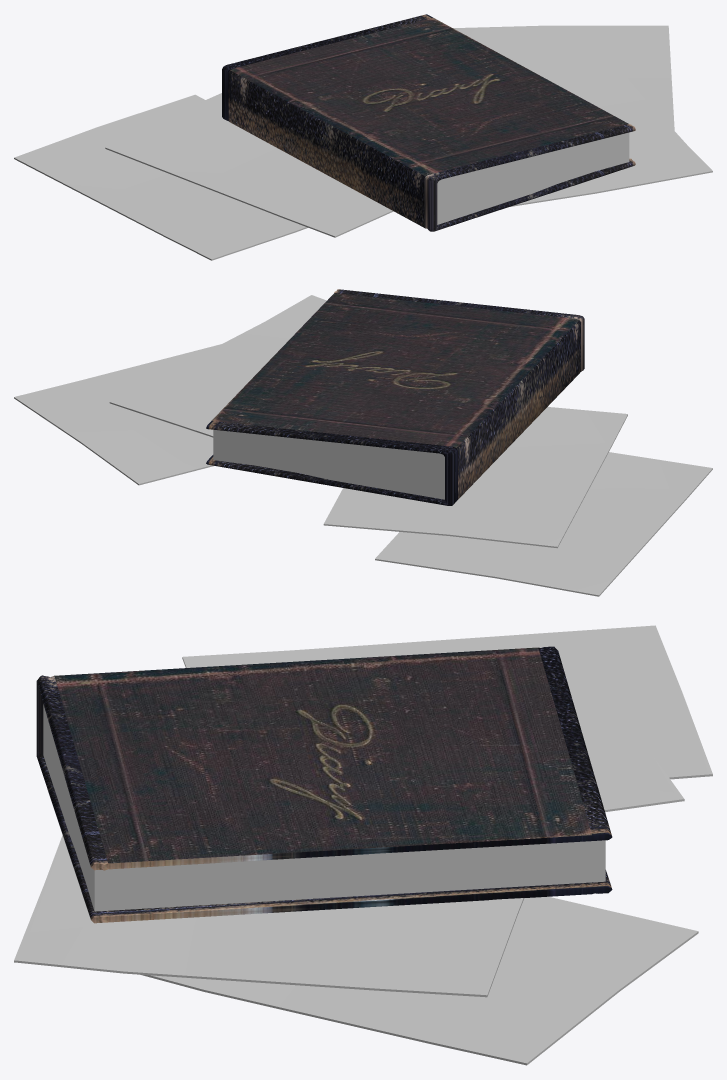
File: diary.fbx
3 renders of one model, top to bottom at view 1: azimuth 30°, elevation 25°; view 2: azimuth 150°, elevation 25°; view 3: azimuth 270°, elevation 25°, orthographic. The views are drawn at different scales.
Visible parts, largest first — view 1: desk02:book10, desk02:pCube27, desk02:pCube25, desk02:pCube23, desk02:pCube24, desk02:book9; view 2: desk02:book10, desk02:pCube25, desk02:pCube27, desk02:pCube24, desk02:pCube23, desk02:book9; view 3: desk02:book10, desk02:pCube23, desk02:pCube24, desk02:book9, desk02:pCube27, desk02:pCube25.
Part boxes in pixels (box(x1,y1,x2,y2)): desk02:book10: box(222, 14, 635, 231); desk02:pCube27: box(14, 94, 307, 260); desk02:pCube25: box(105, 93, 393, 237); desk02:pCube23: box(510, 49, 712, 206); desk02:pCube24: box(453, 25, 674, 130); desk02:book9: box(437, 132, 629, 224); desk02:book10: box(206, 289, 584, 505); desk02:pCube25: box(323, 407, 627, 548); desk02:pCube27: box(375, 452, 712, 596); desk02:pCube24: box(14, 344, 220, 485); desk02:pCube23: box(109, 295, 326, 437); desk02:book9: box(213, 429, 444, 499); desk02:book10: box(36, 646, 612, 923); desk02:pCube23: box(14, 835, 523, 997); desk02:pCube24: box(140, 896, 698, 1065); desk02:book9: box(43, 704, 605, 911); desk02:pCube27: box(182, 625, 712, 779); desk02:pCube25: box(560, 655, 684, 812).
Bounding box in the file's own units: 7.75 × 0.9028 × 5.
